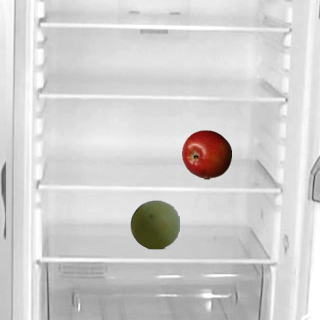Apple Braeburn: (181, 129, 231, 179)
Grape White 4: (129, 199, 179, 249)
